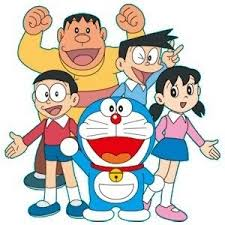doraemon: (59, 96, 165, 224)
